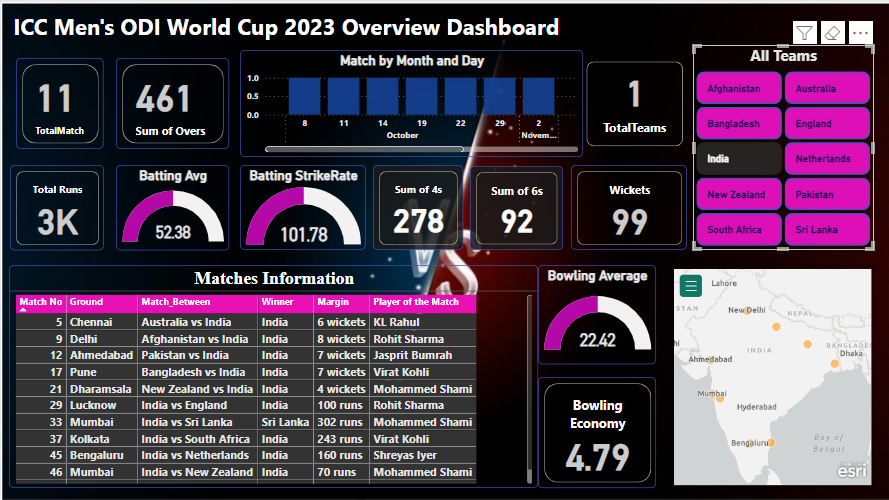

The page's visual inventory and layout, read from the dashboard file:
{"tool":"powerbi","page":{"name":"ICC World Cup 2023 Overall Tournament Overview","canvas":[1280,720],"ordinal":0},"visuals":[{"type":"cardVisual","fields":{"Data":["Sum(bowling_summary.Overs)"]},"box":[165.9,84.1,162.5,130.7],"z":0},{"type":"cardVisual","fields":{"Data":["Key_Measures.wickets"]},"box":[820.8,237.6,167,122.4],"z":1000},{"type":"cardVisual","fields":{"Data":["Key_Measures.Total Runs"]},"box":[12.5,237.5,135.2,122.7],"z":2000},{"type":"lineClusteredColumnComboChart","title":"Match by Month and Day","fields":{"Category":["matches_schedule_results.Date.Variation.Date Hierarchy.Month","matches_schedule_results.Date.Variation.Date Hierarchy.Day"],"Y":["CountNonNull(matches_schedule_results.Match No)"]},"box":[344.2,72,493.9,154.1],"z":3000},{"type":"tableEx","title":"     Matches Information","fields":{"Values":["matches_schedule_results.Match No","matches_schedule_results.Ground","batting_summary_out.Match_Between","matches_schedule_results.Winner","matches_schedule_results.Margin","matches_schedule_results.Player of the Match"]},"box":[11.5,381.6,761.8,321.1],"z":4000},{"type":"advancedSlicerVisual","title":"All Teams","fields":{"Values":["world_cup_players_info.team_name"]},"box":[996.5,64.8,260.6,295.2],"z":5000},{"type":"cardVisual","title":"4s","fields":{"Data":["Sum(batting_summary_out.4s)"]},"box":[535.7,237.6,129.6,122.4],"z":6000},{"type":"cardVisual","fields":{"Data":["Sum(batting_summary_out.6s)"]},"box":[675.4,239,133.9,121],"z":7000},{"type":"cardVisual","fields":{"Data":["Key_Measures.TotalTeams"]},"box":[838.1,83.5,149.8,132.5],"z":8000},{"type":"cardVisual","fields":{"Data":["Key_Measures.TotalMatchesCount"]},"box":[21.6,84.1,126.1,130.7],"z":9000},{"type":"cardVisual","fields":{"Data":["Key_Measures.Economy"]},"box":[773.1,543.3,170.1,159.7],"z":10000},{"type":"gauge","fields":{"Y":["Key_Measures.Bowling Average"]},"box":[773.3,381.6,169.9,142.6],"z":11000},{"type":"gauge","fields":{"Y":["Key_Measures.Batting Avg"]},"box":[165.9,237.5,162.5,122.7],"z":12000},{"type":"gauge","fields":{"Y":["Key_Measures.Strike rate"]},"box":[344.2,237.6,181.4,122.4],"z":13000},{"type":"textbox","box":[12.5,10.2,808,54.5],"z":14000},{"type":"esriVisual","fields":{"Location":["matches_schedule_results.Ground"]},"box":[963.4,381.6,293.8,321.1],"z":15000}]}

Visuals, with their boxes in screenshot pixels (x1, y1, x2, y2), scaled from the page's 1280x720 canvas onto the 889x500 screenshot:
cardVisual - Sum(bowling_summary.Overs): detection(115, 58, 228, 149)
cardVisual - Key_Measures.wickets: detection(570, 165, 686, 250)
cardVisual - Key_Measures.Total Runs: detection(9, 165, 103, 250)
"Match by Month and Day" lineClusteredColumnComboChart: detection(239, 50, 582, 157)
"     Matches Information" tableEx: detection(8, 265, 537, 488)
"All Teams" advancedSlicerVisual: detection(692, 45, 873, 250)
"4s" cardVisual: detection(372, 165, 462, 250)
cardVisual - Sum(batting_summary_out.6s): detection(469, 166, 562, 250)
cardVisual - Key_Measures.TotalTeams: detection(582, 58, 686, 150)
cardVisual - Key_Measures.TotalMatchesCount: detection(15, 58, 103, 149)
cardVisual - Key_Measures.Economy: detection(537, 377, 655, 488)
gauge - Key_Measures.Bowling Average: detection(537, 265, 655, 364)
gauge - Key_Measures.Batting Avg: detection(115, 165, 228, 250)
gauge - Key_Measures.Strike rate: detection(239, 165, 365, 250)
textbox: detection(9, 7, 570, 45)
esriVisual - matches_schedule_results.Ground: detection(669, 265, 873, 488)
